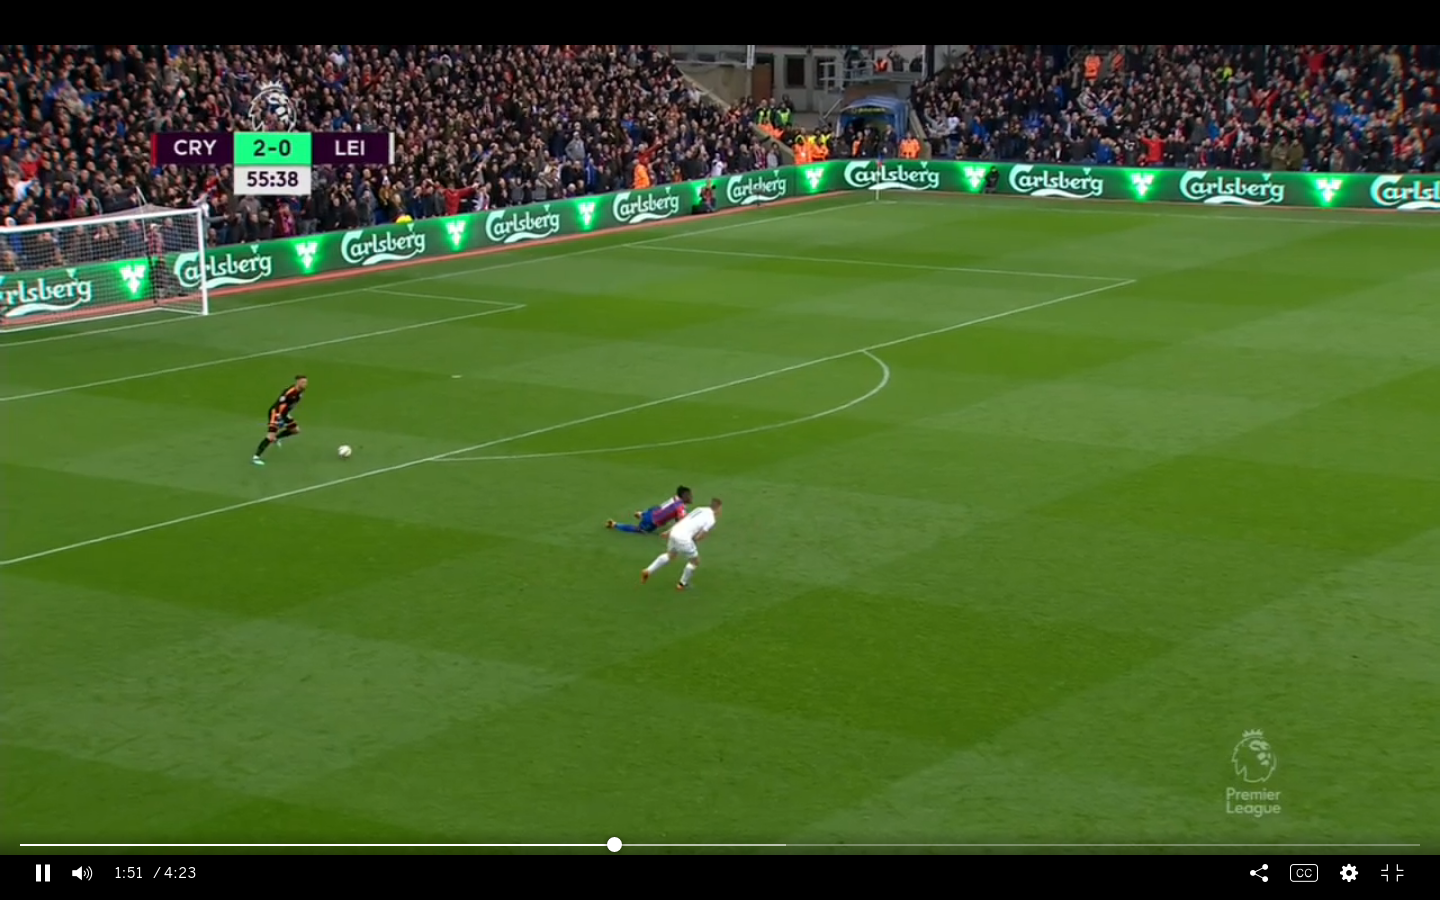soccer player: (647, 496, 730, 588), (252, 362, 313, 468), (608, 485, 701, 536)
soccerball: (335, 439, 350, 465)
